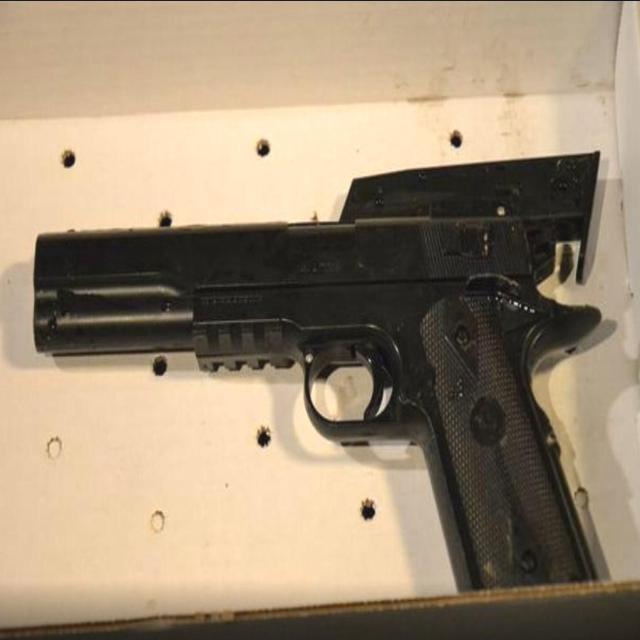pistol: (36, 222, 607, 583)
